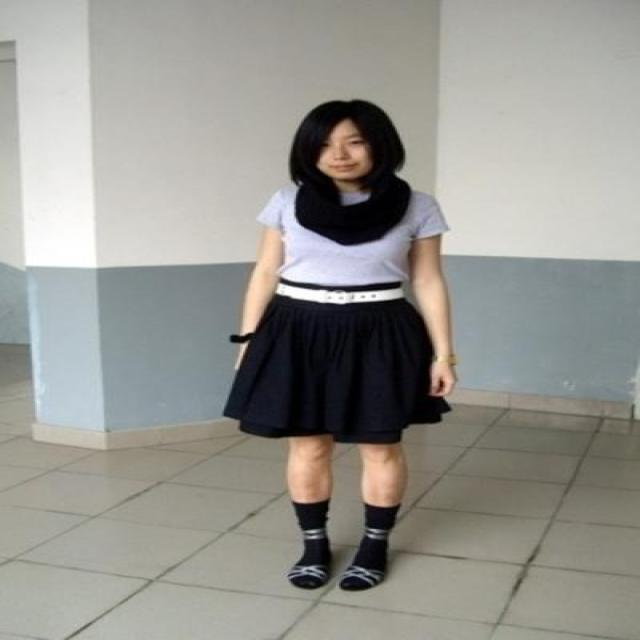shirt: (258, 178, 448, 303)
shoe: (341, 568, 387, 590)
skirt: (222, 294, 436, 444)
